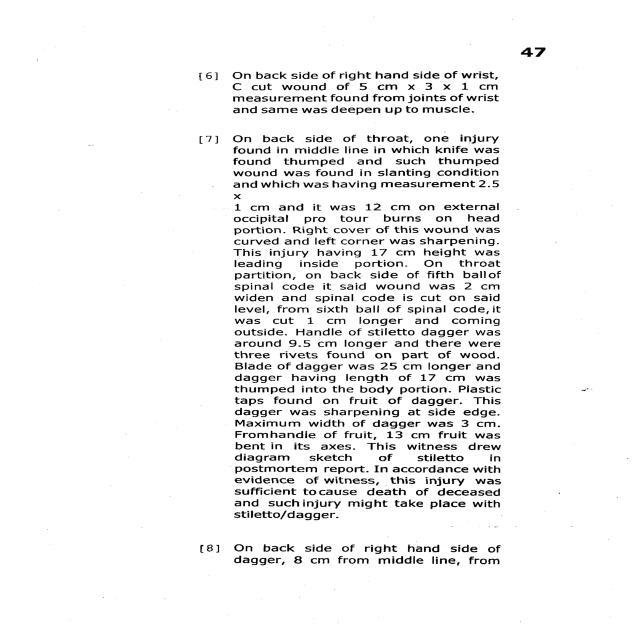page-number: (467, 0, 634, 65)
